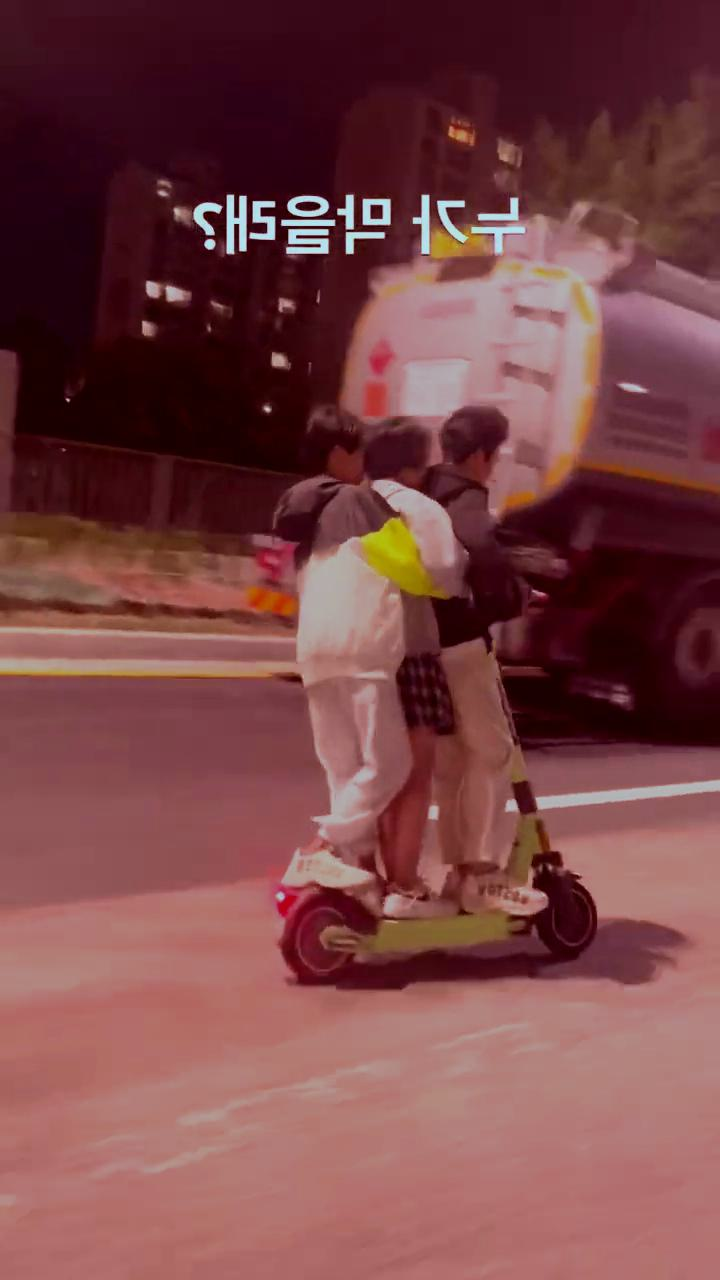multiple: (254, 393, 607, 979)
